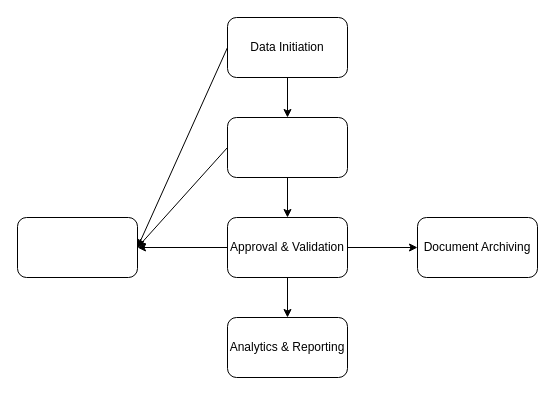
The diagram is 555 pixels wide and 395 high, and some of its shapes have lost their labels. Here are the shapes that lost their labels. From the top down, the centre of each, then its label:
the point at 287,147: Workflow Automation & Routing
the point at 77,247: Monitoring & Notification
